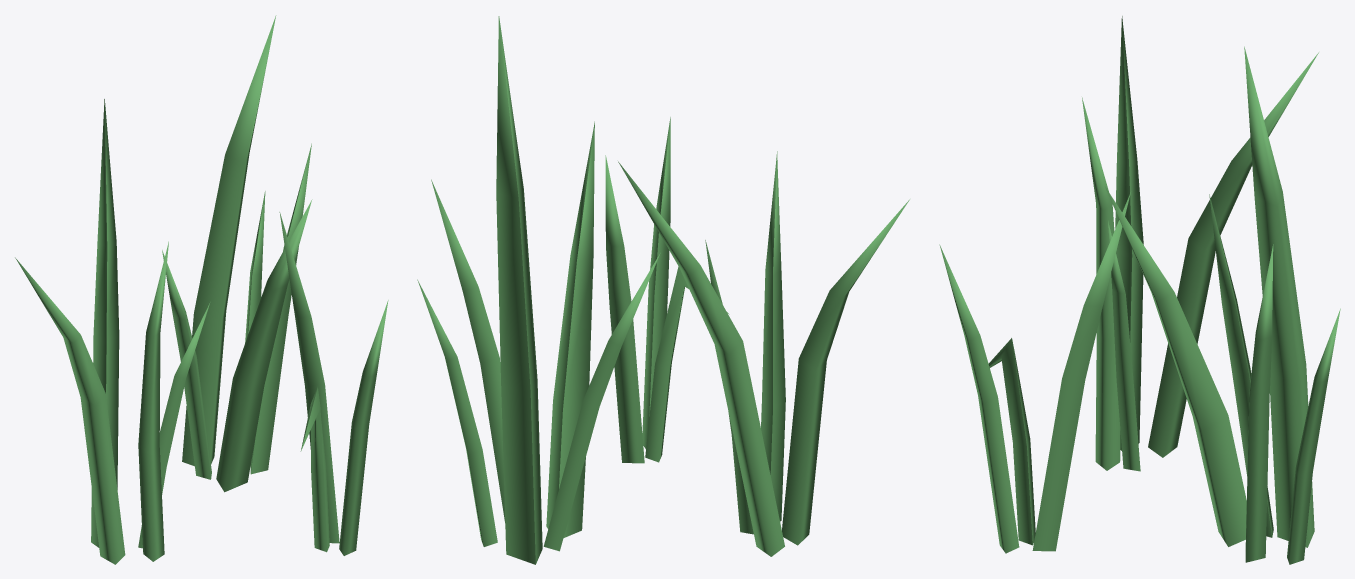
File: Grass_2.fbx
3 views of the same model, side by side, from view 1: azimuth 30°, elevation 25°; view 2: azimuth 150°, elevation 25°; view 3: azimuth 270°, elevation 25° (orthographic). The views are drawn at different scales.
Visible parts, largest first — view 1: Grass_2; view 2: Grass_2; view 3: Grass_2.
Part boxes in pixels (left/top/right/bottom): Grass_2: left=15, top=15, right=388, bottom=564; Grass_2: left=417, top=16, right=909, bottom=564; Grass_2: left=939, top=16, right=1340, bottom=564.
Size of the model in its own units: 108 by 129 by 89.76.
